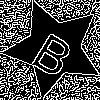B: (29, 23, 82, 80)
